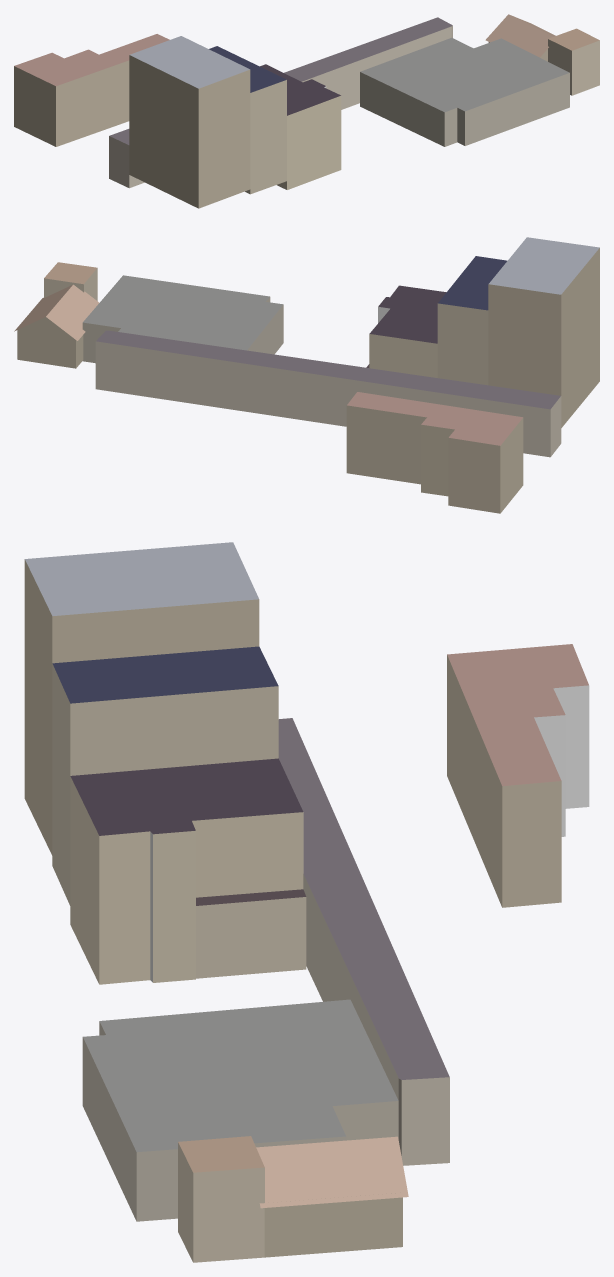
3 renders of one model, top to bottom at view 1: azimuth 30°, elevation 25°; view 2: azimuth 150°, elevation 25°; view 3: azimuth 270°, elevation 25°, orthographic. The views are drawn at different scales.
Visible parts, largest first — view 1: tuile; view 2: tuile; view 3: tuile.
Part boxes in pixels (x1,y1,x2,y2): tuile: [14, 14, 599, 208]; tuile: [14, 237, 599, 513]; tuile: [24, 542, 589, 1262].
Bounding box in the file's own units: 82.2 × 21.84 × 40.9.
